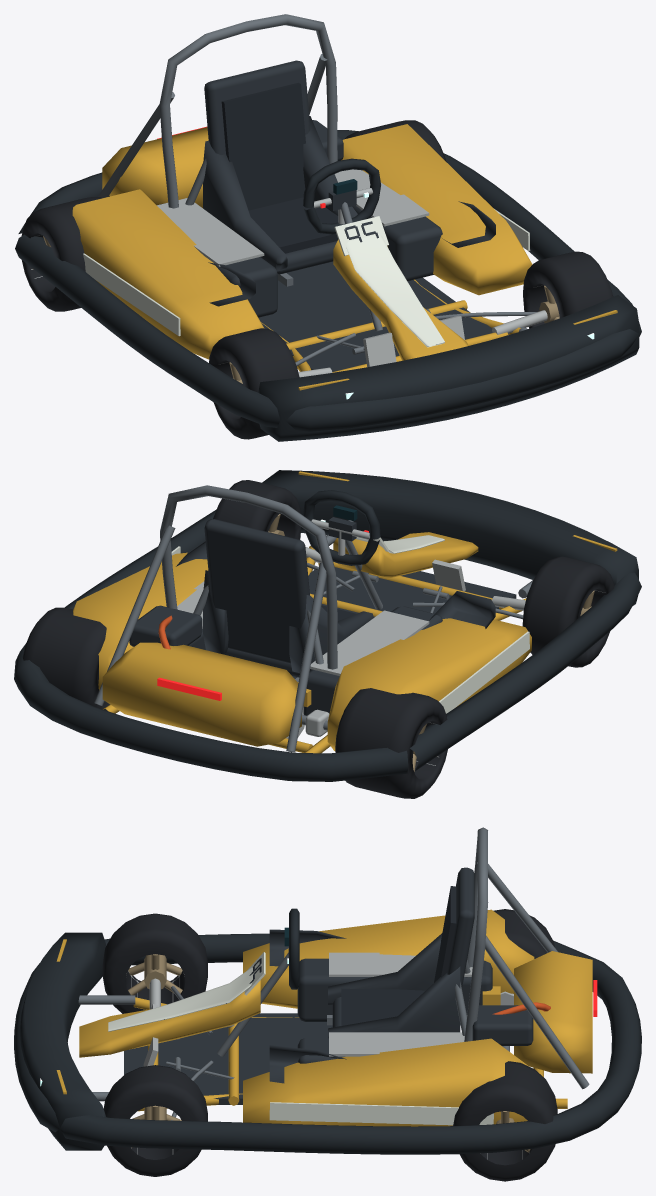
File: aegis-lod.glb
3 renders of one model, top to bottom at view 1: azimuth 30°, elevation 25°; view 2: azimuth 150°, elevation 25°; view 3: azimuth 270°, elevation 25°, orthographic.
Parts seen in each view (by area): view 1: Moulded bumper polymer (×3), paint, Satin composite, Slick vulcanised rubber (×4), Seat fabric, Steel fasteners, Livery ivory, Brushed alloy (×2); view 2: Moulded bumper polymer (×3), paint, Satin composite (×2), Slick vulcanised rubber (×4), Steel fasteners, Brushed alloy (×2), Livery ivory, brake_light; view 3: Moulded bumper polymer (×3), paint, Satin composite, Slick vulcanised rubber (×4), Steel fasteners (×2), Livery ivory, Brushed alloy, Seat fabric, Magnesium wheel centres.
Part boxes in pixels (x1,y1,x2,y2): Moulded bumper polymer (×3): [15, 130, 641, 441]; paint: [72, 124, 532, 372]; Satin composite: [160, 60, 495, 371]; Slick vulcanised rubber (×4): [21, 120, 613, 439]; Seat fabric: [221, 82, 338, 253]; Steel fasteners: [98, 14, 536, 365]; Livery ivory: [83, 209, 530, 347]; Brushed alloy (×2): [157, 169, 547, 377]; Moulded bumper polymer (×3): [14, 470, 641, 781]; paint: [73, 532, 531, 753]; Satin composite (×2): [129, 517, 516, 715]; Slick vulcanised rubber (×4): [22, 480, 614, 798]; Steel fasteners: [94, 485, 523, 752]; Brushed alloy (×2): [177, 547, 525, 738]; Livery ivory: [171, 535, 529, 713]; brake_light: [157, 677, 221, 700]; Moulded bumper polymer (×3): [14, 908, 641, 1154]; paint: [79, 909, 592, 1126]; Satin composite: [124, 867, 533, 1104]; Slick vulcanised rubber (×4): [102, 909, 557, 1181]; Steel fasteners (×2): [78, 827, 589, 1120]; Livery ivory: [108, 952, 493, 1125]; Brushed alloy: [149, 952, 513, 1056]; Seat fabric: [341, 886, 456, 1026]; Magnesium wheel centres: [128, 954, 182, 995].
Size of the model in its own units: 2.17 by 1.22 by 2.8.
